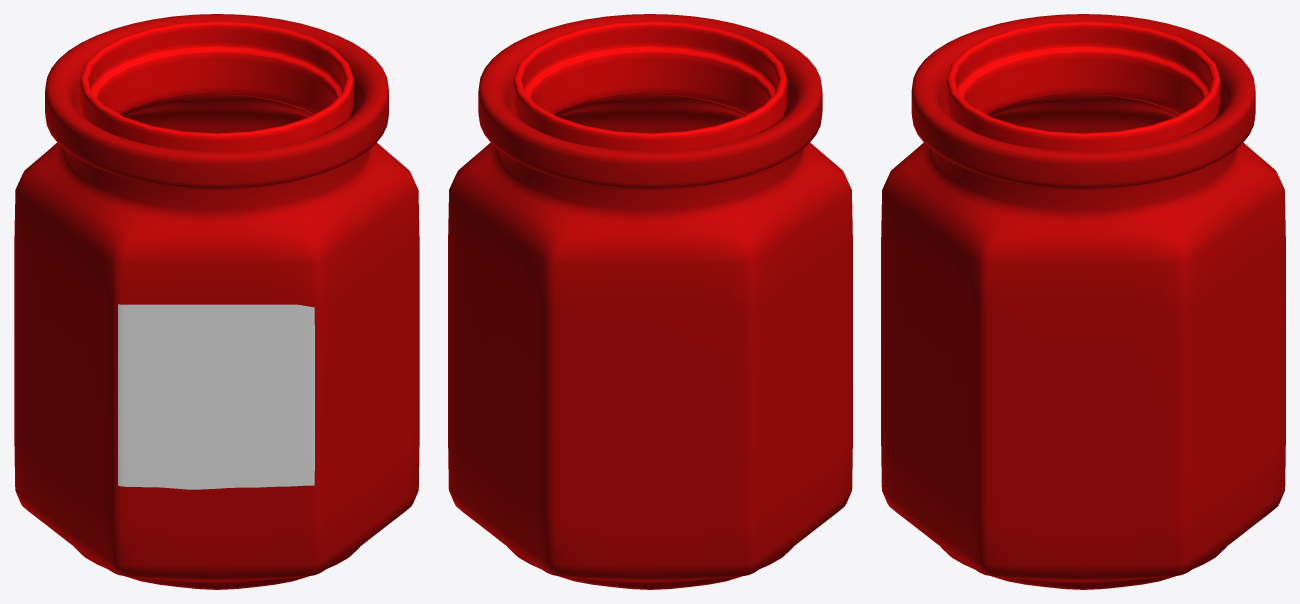
The model's file is VP_Kitchen_Jar_1_Body.FBX.
3 renders of one model, left to right at view 1: azimuth 30°, elevation 25°; view 2: azimuth 150°, elevation 25°; view 3: azimuth 270°, elevation 25°, orthographic.
Visible parts, largest first — view 1: VP_Kitchen_Jar_1_Body; view 2: VP_Kitchen_Jar_1_Body; view 3: VP_Kitchen_Jar_1_Body.
Boxes of the visible parts, x1,y1,x2,y2 form: VP_Kitchen_Jar_1_Body: [14, 14, 419, 589]; VP_Kitchen_Jar_1_Body: [448, 14, 852, 589]; VP_Kitchen_Jar_1_Body: [881, 14, 1285, 589].
Size of what is drawn, in the model's own units: 10.54 by 12.08 by 14.8.
